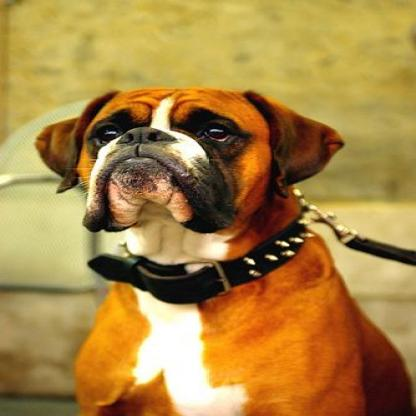boxer: (32, 82, 352, 410)
